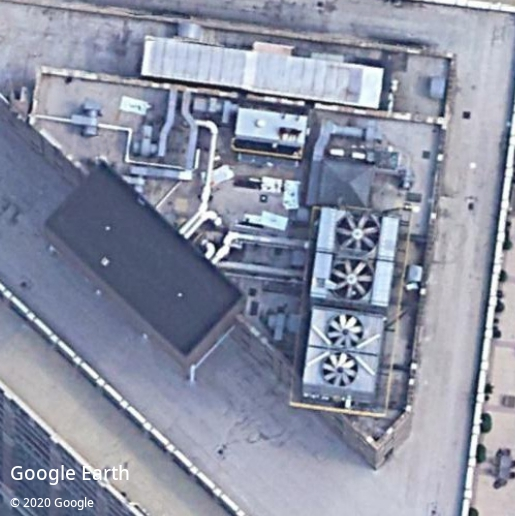Vent: (334, 211, 380, 257), (330, 256, 375, 301), (326, 313, 364, 349), (322, 352, 359, 387)
